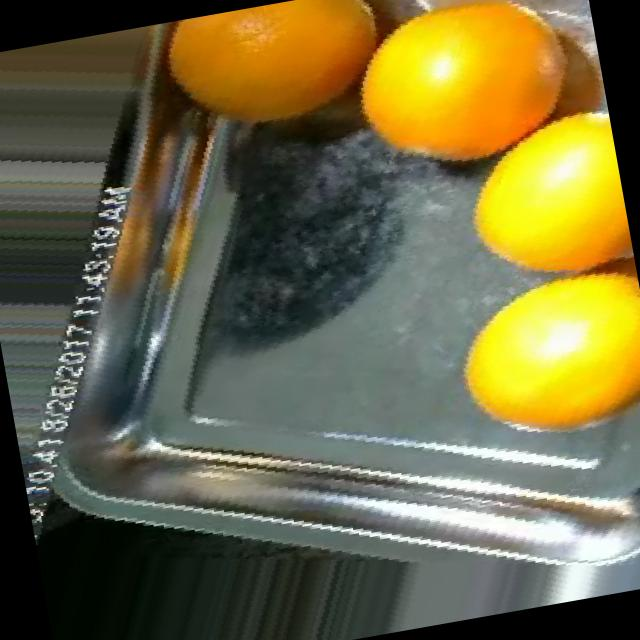Fruit: (424, 244, 640, 474), (438, 103, 638, 308)
